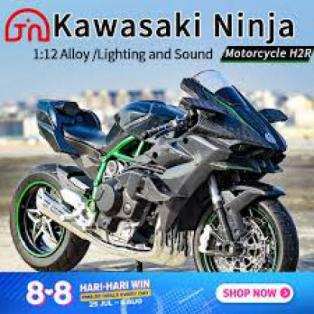Motocicleta: (4, 72, 303, 272)
